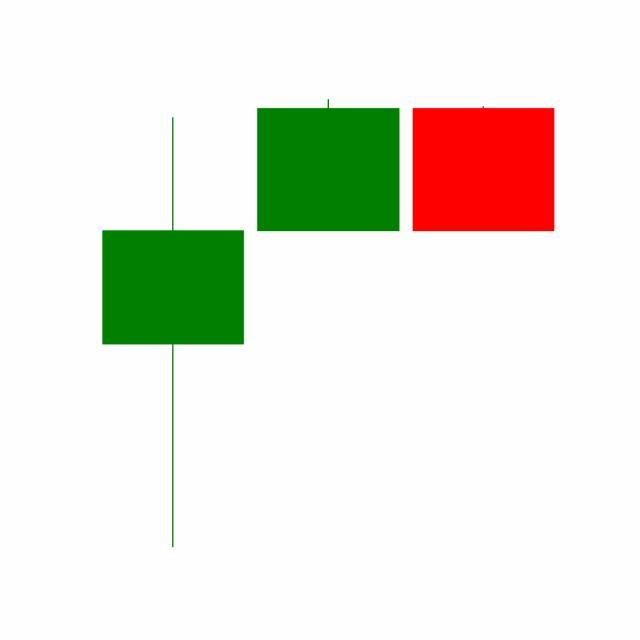Marubozu: (250, 98, 407, 233)
